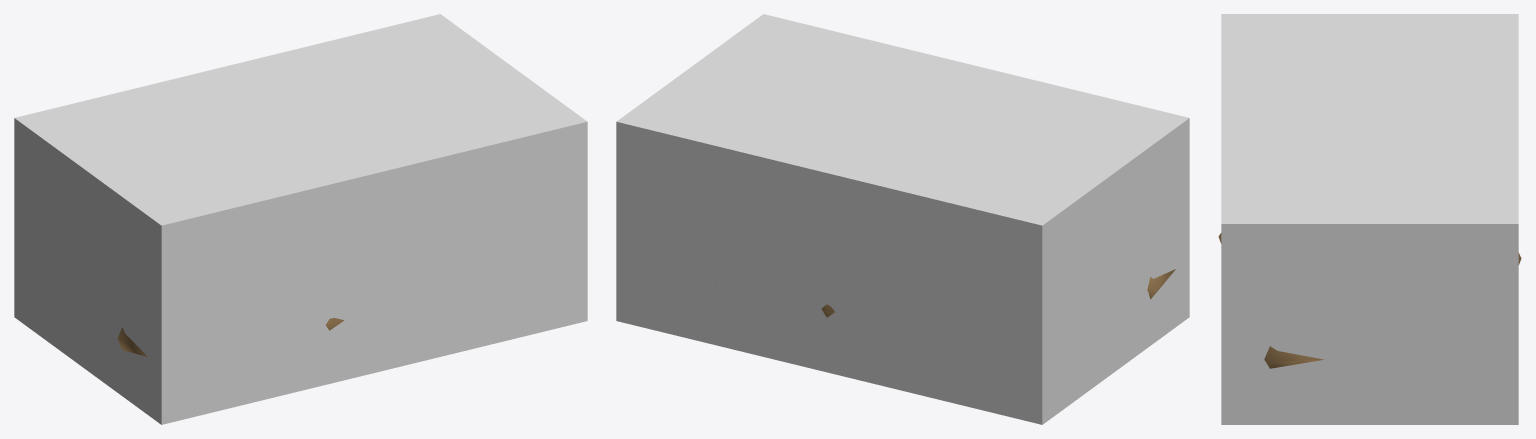
Rendered from FMS_Crate_Fill_Potato.fbx.
3 renders of one model, left to right at view 1: azimuth 30°, elevation 25°; view 2: azimuth 150°, elevation 25°; view 3: azimuth 270°, elevation 25°, orthographic.
Parts seen in each view (by area): view 1: Crate_Fill_Potato_Col; view 2: Crate_Fill_Potato_Col; view 3: Crate_Fill_Potato_Col, Crate_Fill_Potato_LOD0.
Boxes of the visible parts, box(x1,y1,x2,y2) form: Crate_Fill_Potato_Col: box(14, 14, 587, 424); Crate_Fill_Potato_Col: box(616, 14, 1189, 424); Crate_Fill_Potato_Col: box(1221, 14, 1518, 424); Crate_Fill_Potato_LOD0: box(1218, 233, 1521, 368).
Size of what is drawn, in the model's own units: 43.32 by 18.98 by 25.91.
